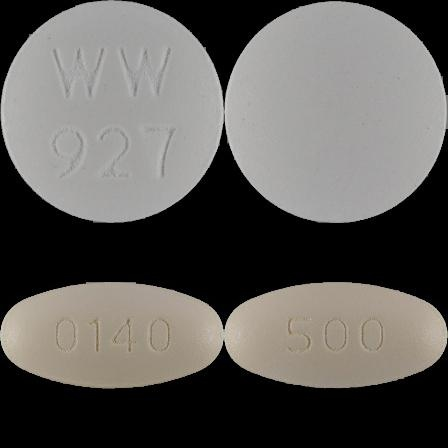64205-927: (0, 0, 224, 224)
